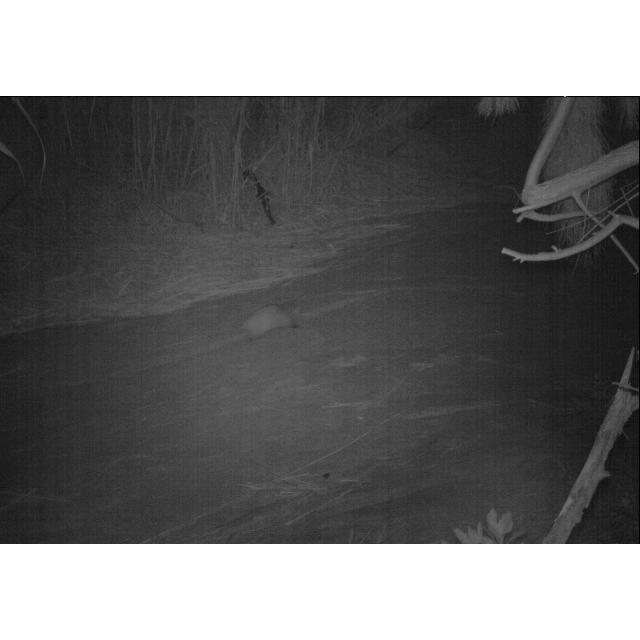animals: (239, 301, 301, 339)
